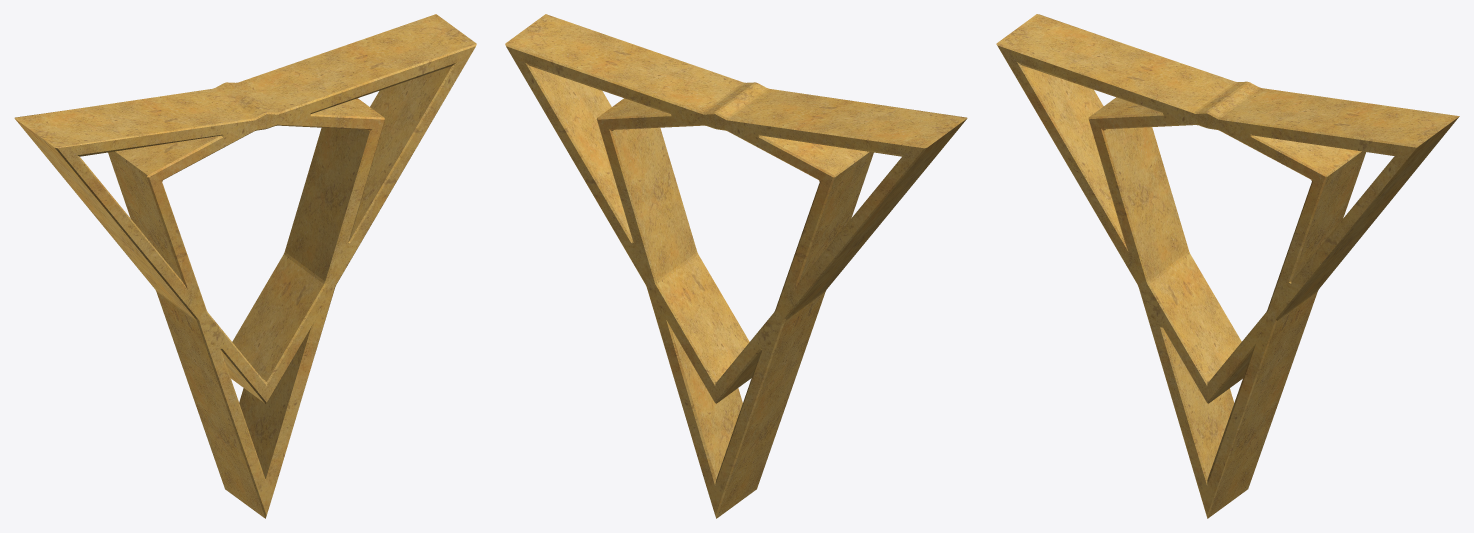
The picture shows the model from 3 angles, left to right: view 1: azimuth 30°, elevation 25°; view 2: azimuth 150°, elevation 25°; view 3: azimuth 330°, elevation 25°; orthographic projection.
Visible parts, largest first — view 1: jw; view 2: jw; view 3: jw.
Boxes of the visible parts, x1,y1,x2,y2 form: jw: [14, 14, 476, 518]; jw: [505, 14, 967, 518]; jw: [996, 14, 1459, 518].
Bounding box in the file's own units: 2.05 × 1.97 × 0.3544.
1 material, 1 textured.
